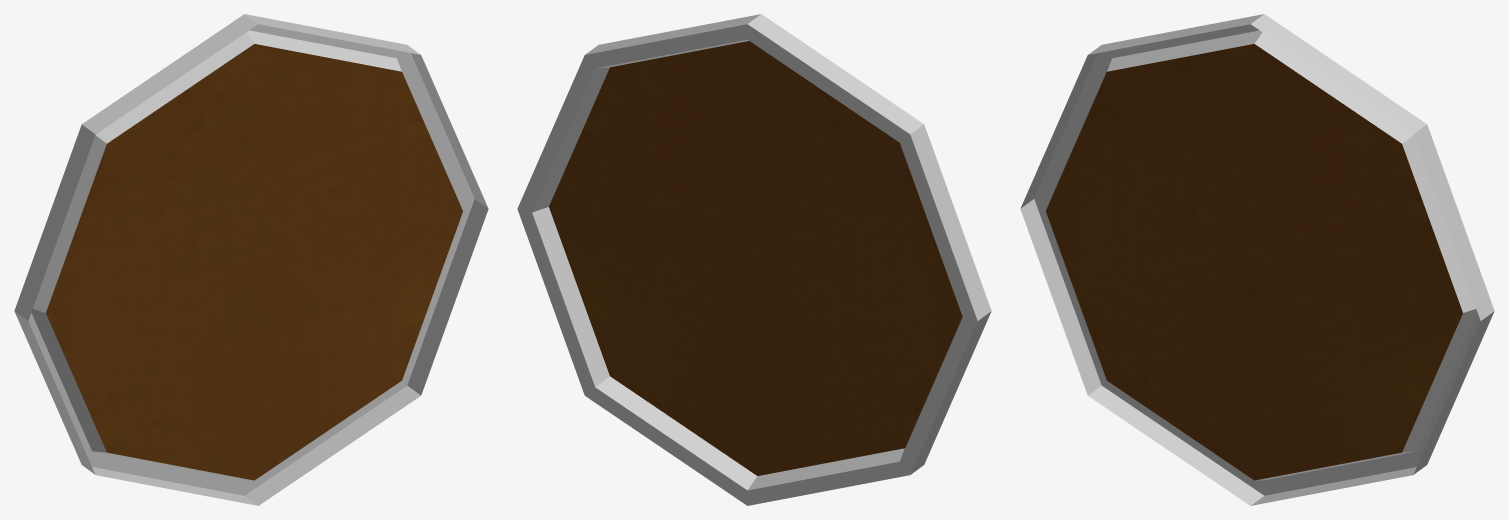
File: vase-street.obj
The picture shows the model from 3 angles, left to right: view 1: azimuth 30°, elevation 25°; view 2: azimuth 150°, elevation 25°; view 3: azimuth 330°, elevation 25°; orthographic projection.
Parts seen in each view (by area): view 1: vase-street_Circle.029; view 2: vase-street_Circle.029; view 3: vase-street_Circle.029.
Boxes of the visible parts, left/top/right/bottom form: vase-street_Circle.029: left=14, top=14, right=488, bottom=505; vase-street_Circle.029: left=517, top=14, right=991, bottom=505; vase-street_Circle.029: left=1020, top=14, right=1494, bottom=505.
Size of the model in its own units: 3.88 by 3.88 by 0.2034.
